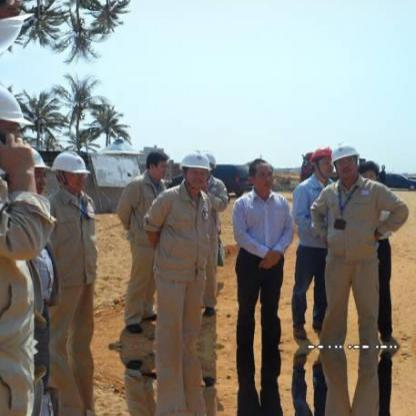head: (247, 156, 274, 194), (143, 148, 169, 180), (357, 158, 380, 186)
helmet: (0, 84, 36, 168), (9, 144, 49, 206), (0, 0, 37, 53), (51, 150, 89, 192), (178, 148, 212, 188), (330, 140, 360, 180), (312, 142, 335, 180)
